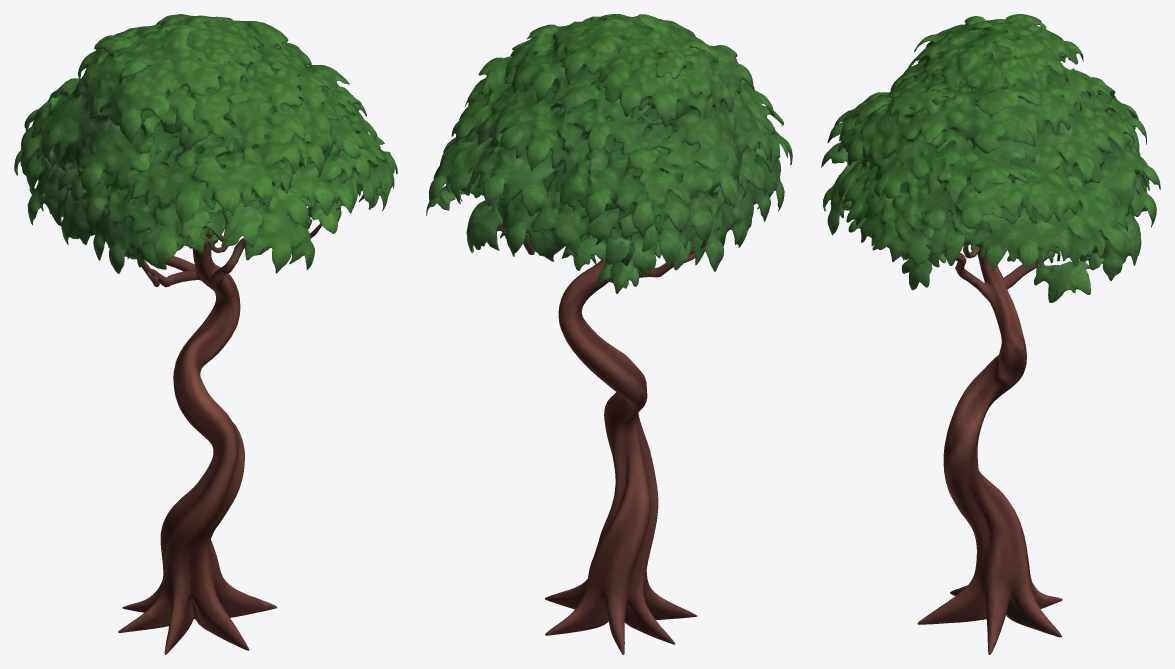
Rendered from pequizeiro_cerrado.glb.
The picture shows the model from 3 angles, left to right: view 1: azimuth 30°, elevation 25°; view 2: azimuth 150°, elevation 25°; view 3: azimuth 270°, elevation 25°; orthographic projection. The views are drawn at different scales.
Bounding box in the file's own units: 1 × 1.9 × 0.9962.
Materials: 1 (1 with a texture image).
